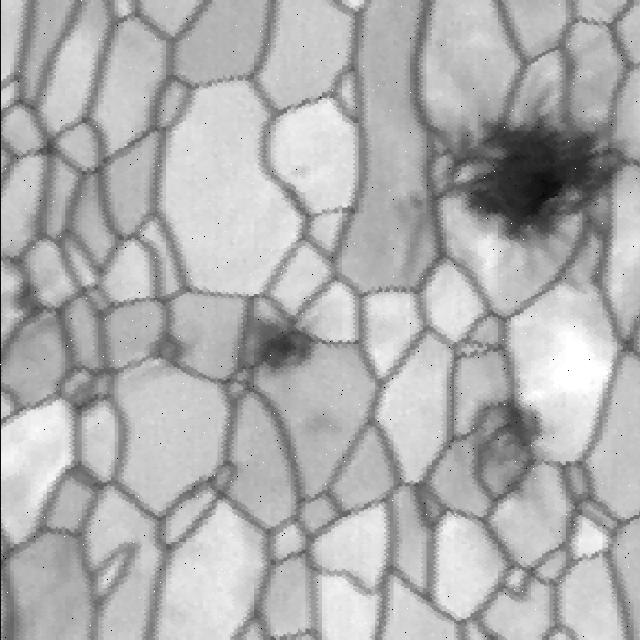good_void: (407, 66, 637, 264), (464, 369, 558, 494), (255, 300, 319, 386), (139, 321, 202, 385), (286, 150, 317, 184)
